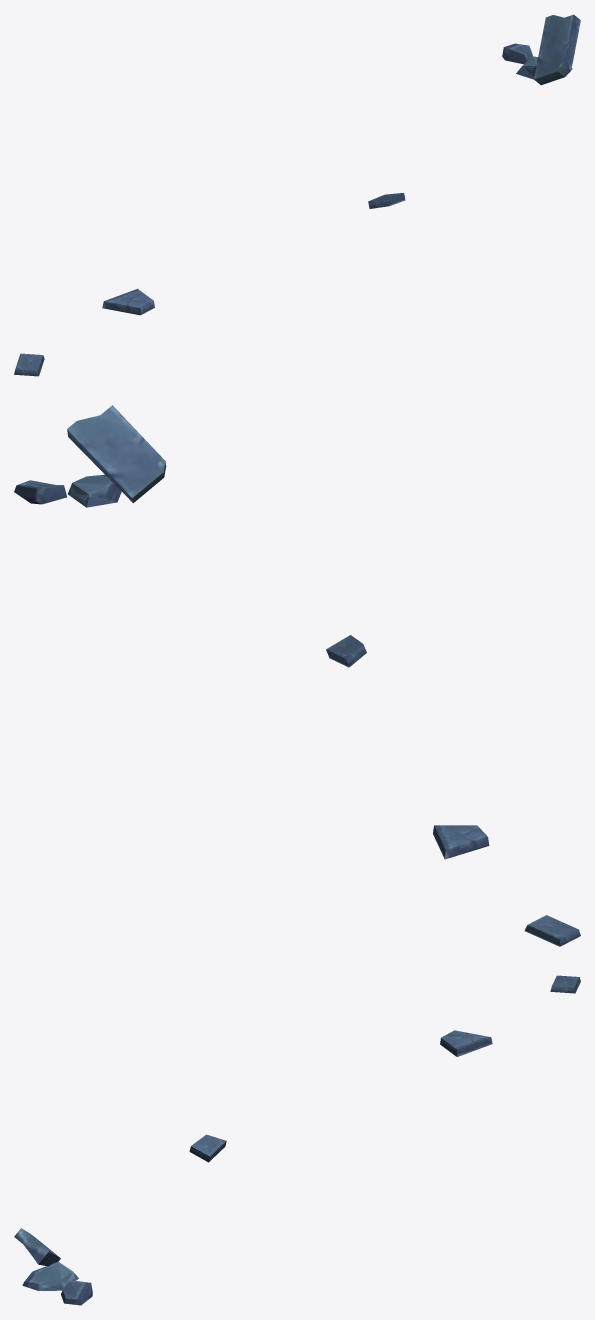
The model's file is Area10_15.fbx.
The picture shows the model from 3 angles, top to bottom: view 1: azimuth 90°, elevation 25°; view 2: azimuth 150°, elevation 25°; view 3: azimuth 270°, elevation 25°; orthographic projection. The views are drawn at different scales.
Parts seen in each view (by area): view 1: Area10_15; view 2: Area10_15; view 3: Area10_15.
Part boxes in pixels (x1,y1,x2,y2): Area10_15: [14, 14, 580, 376]; Area10_15: [14, 405, 580, 946]; Area10_15: [14, 975, 580, 1305].
Size of the model in its own units: 3066 by 268 by 2246.
1 material, 1 textured.
